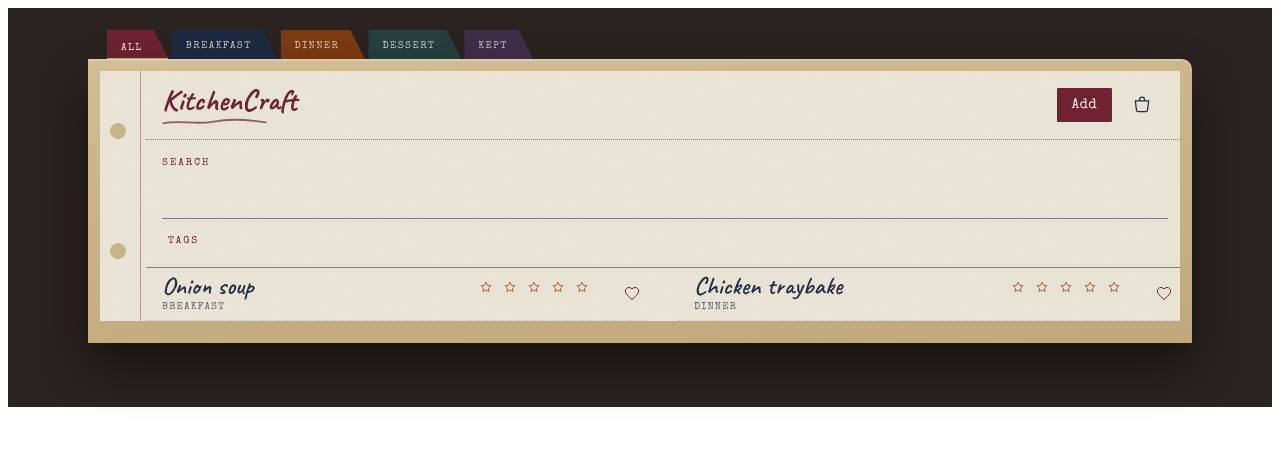
Test case: search and filters on the page › clears one filter without touching the others
The width and height of the screenshot is (1280, 456).
Click the button with test id "tab-dinner" at (323, 45), box [280,30,365,60]
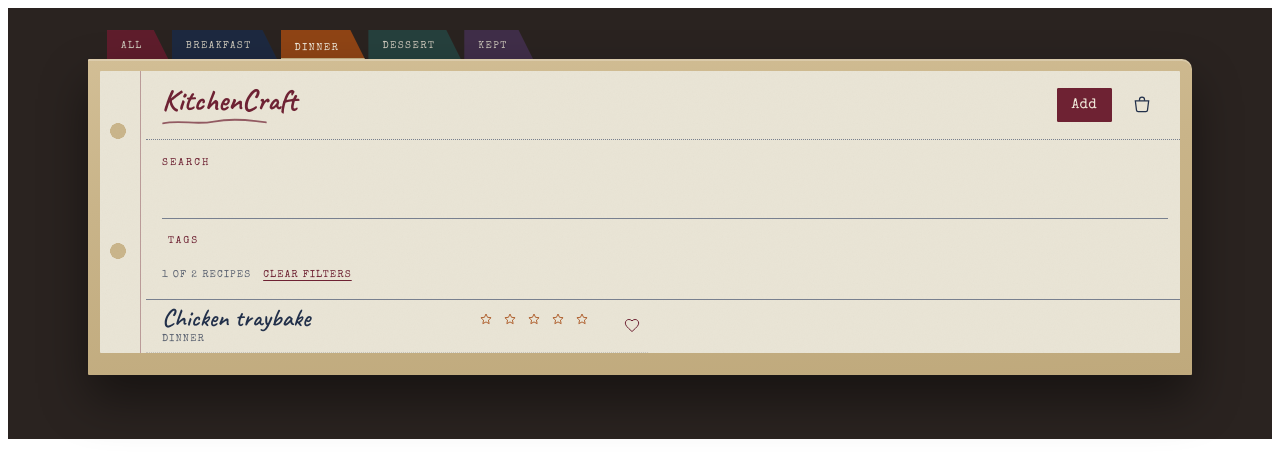
Type "onion" into the field with test id "search" at (665, 198), box [162,176,1168,219]
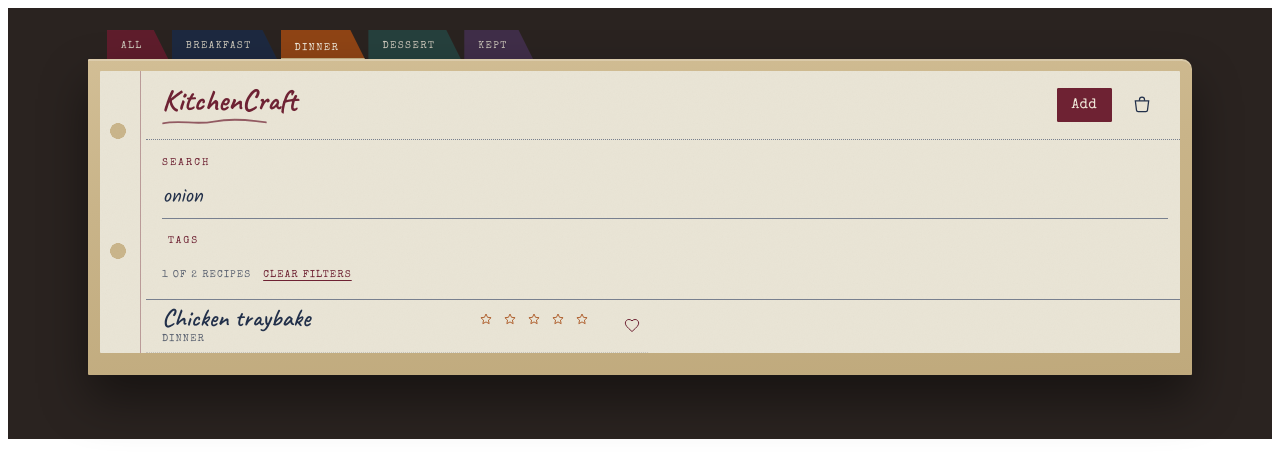
expect the number of list items with class "kc-row" is 1: met, box [146,300,648,353]
Click the button with test id "tab-all" at (138, 45), box [107,30,169,60]
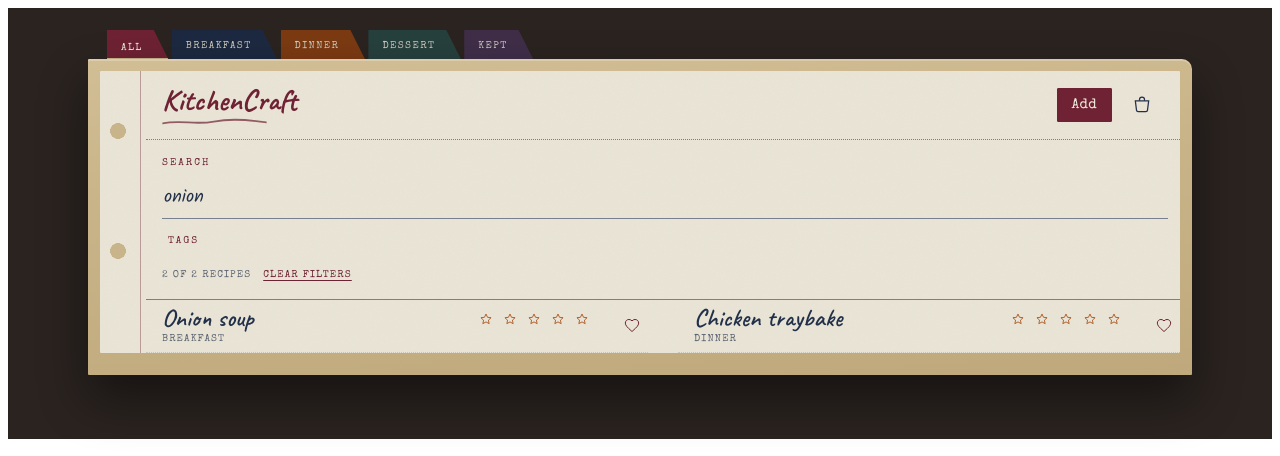
expect the number of list items with class "kc-row" is 2: met, box [146,300,648,353]; [678,300,1180,353]
